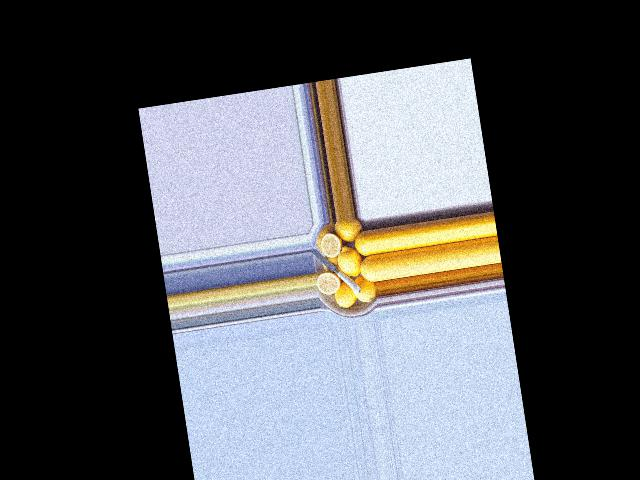lemon: (331, 217, 364, 245)
